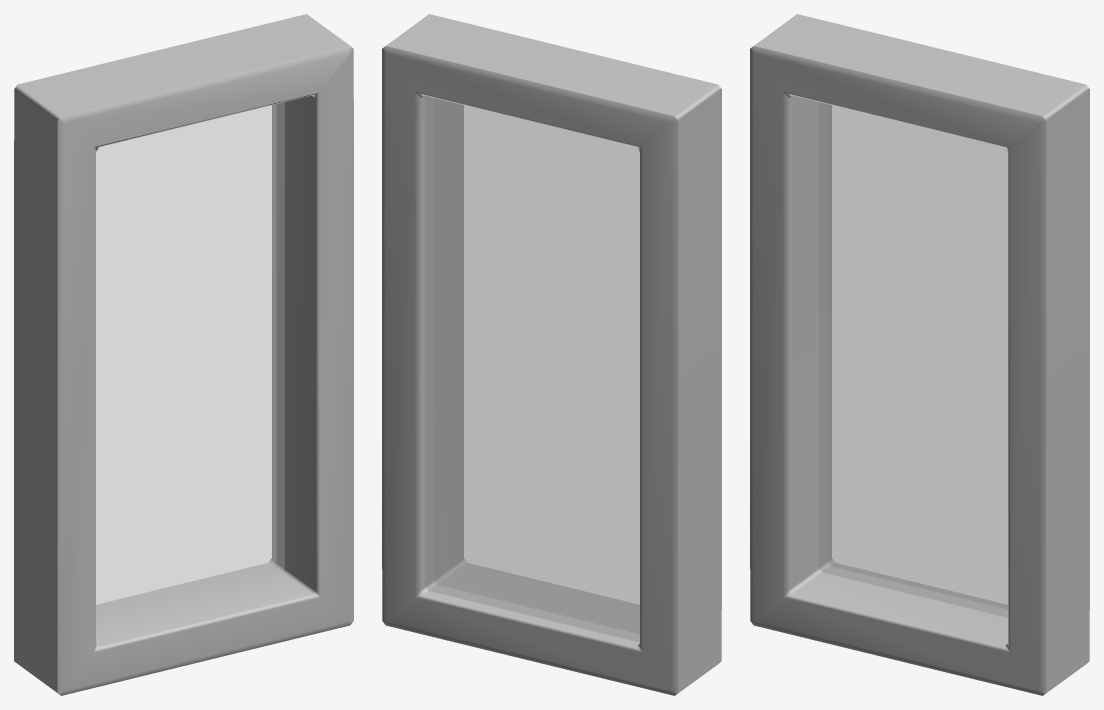
The model's file is Window_31.fbx.
3 renders of one model, left to right at view 1: azimuth 30°, elevation 25°; view 2: azimuth 150°, elevation 25°; view 3: azimuth 330°, elevation 25°, orthographic.
Visible parts, largest first — view 1: Window_31; view 2: Window_31; view 3: Window_31.
Part boxes in pixels (x1,y1,x2,y2): Window_31: [14, 14, 353, 695]; Window_31: [382, 14, 721, 695]; Window_31: [750, 14, 1089, 695].
Bounding box in the file's own units: 156 × 291 × 42.45.
